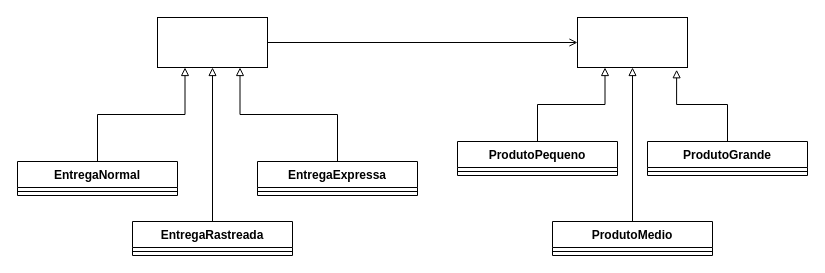
Image size: 825x273. Some labels were removed from this diagram. The shapes that lost their labels are listed below. From the top down, each one's centre as x and y in pixels, then its label:
[212,42]: «abstract» Entrega
[632,42]: «interface» TamanhoProduto
